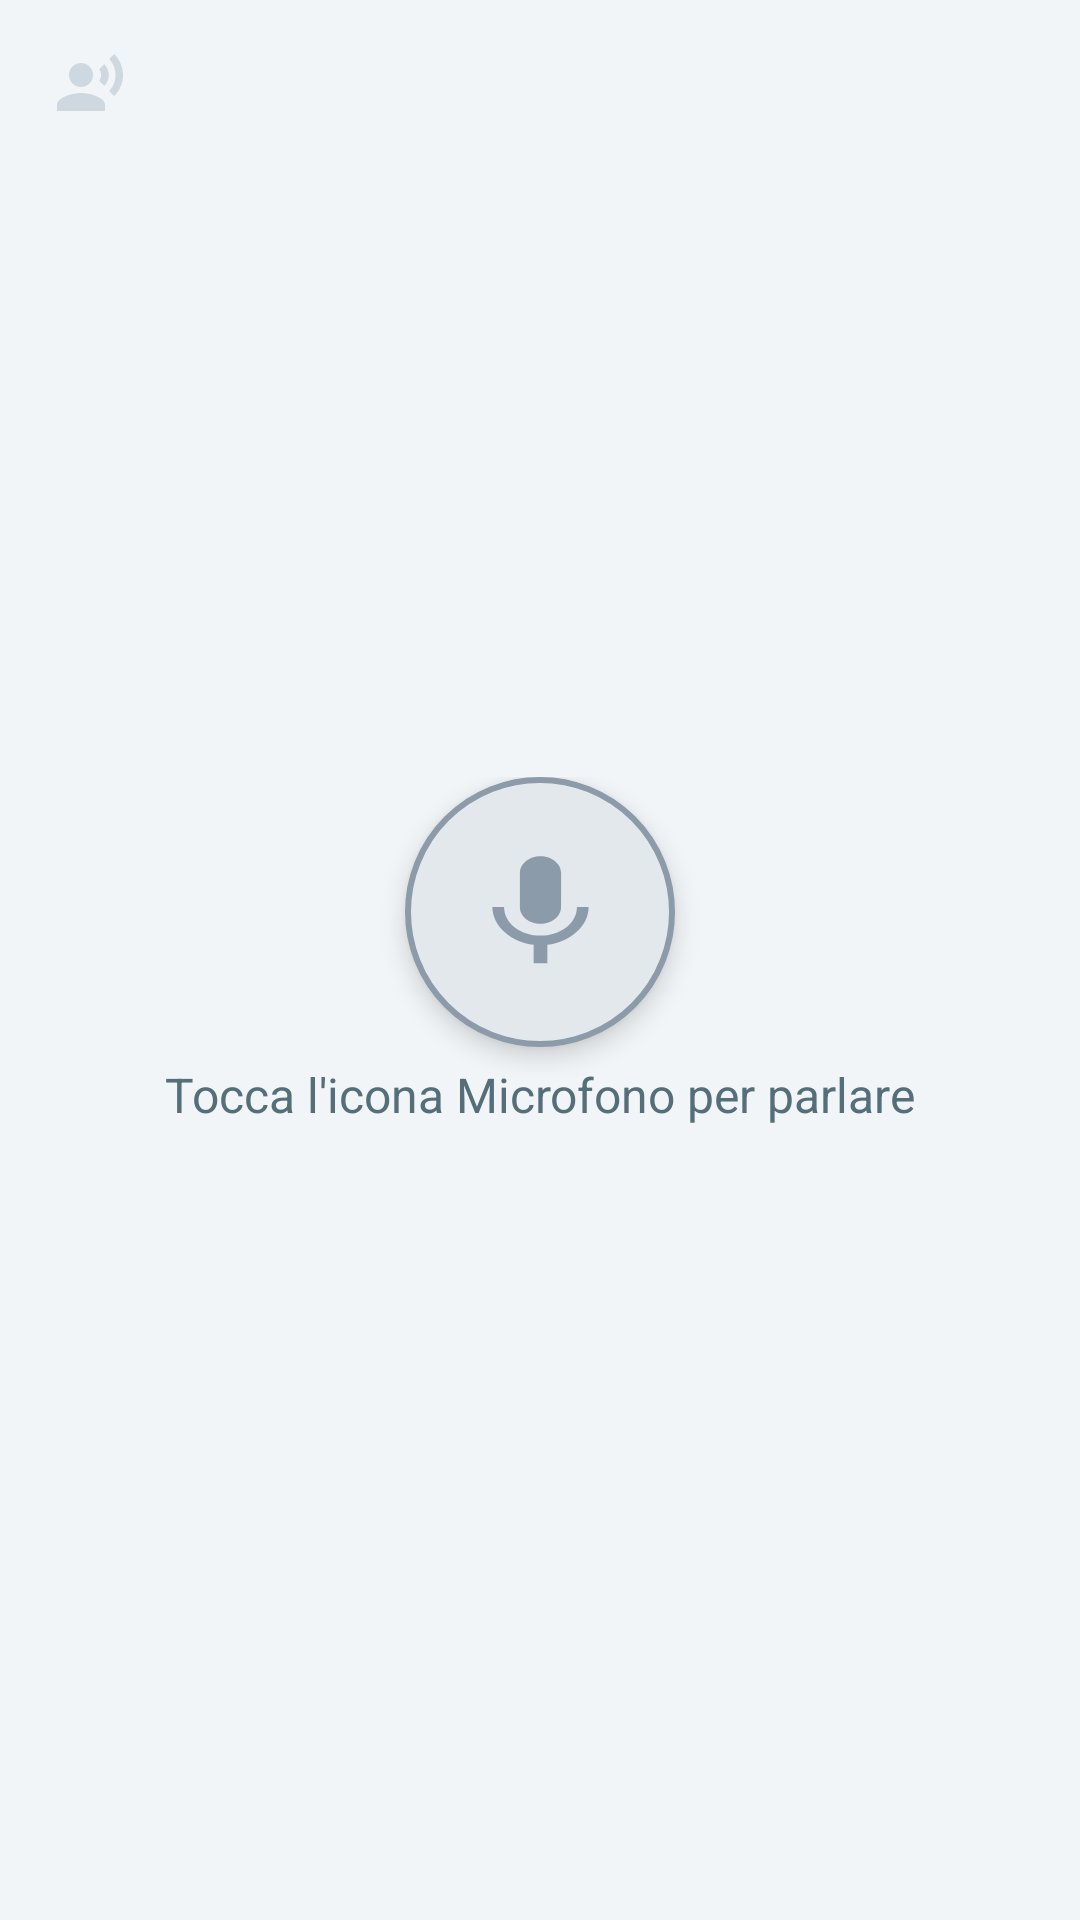

Icons on this 1080×1920 Android screen, each with its box as [x1,y1,x2,y2]:
pulsante microfono: [405,777,675,1047]
